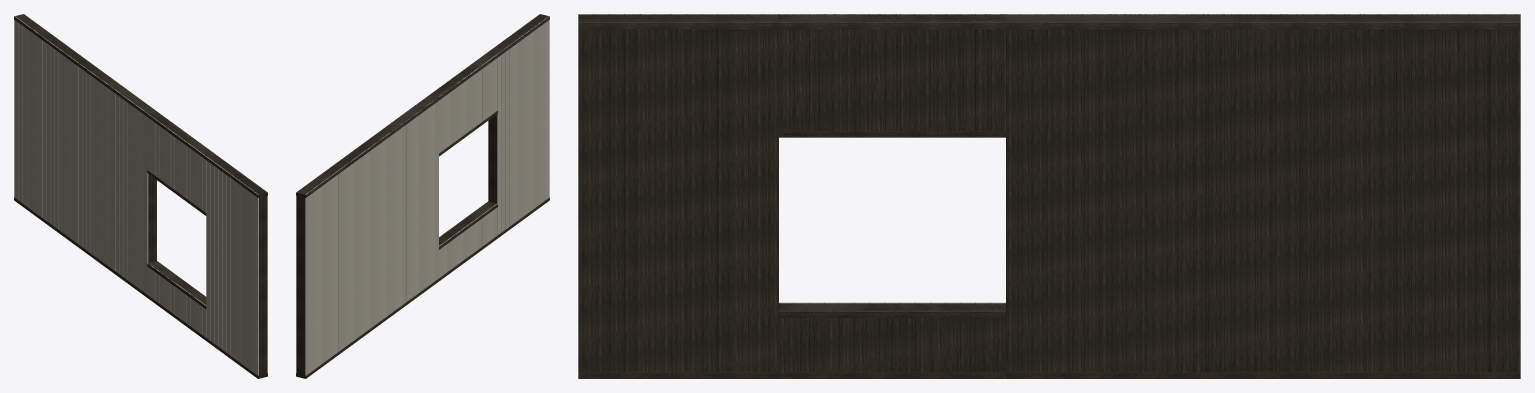
The picture shows the model from 3 angles, left to right: view 1: azimuth 30°, elevation 25°; view 2: azimuth 150°, elevation 25°; view 3: azimuth 270°, elevation 25°; orthographic projection. The views are drawn at different scales.
Parts seen in each view (by area): view 1: Mesh_warm, Mesh_dark; view 2: Mesh_warm, Mesh_dark; view 3: Mesh_dark, Mesh_warm.
Part boxes in pixels (x1,y1,x2,y2): Mesh_warm: (14, 16, 258, 375); Mesh_dark: (14, 14, 267, 378); Mesh_warm: (305, 16, 549, 375); Mesh_dark: (296, 14, 549, 378); Mesh_dark: (578, 14, 1520, 378); Mesh_warm: (578, 14, 1519, 303).
Size of the model in its own units: 0.254 by 4.5 by 10.8.
2 materials, 2 textured.
